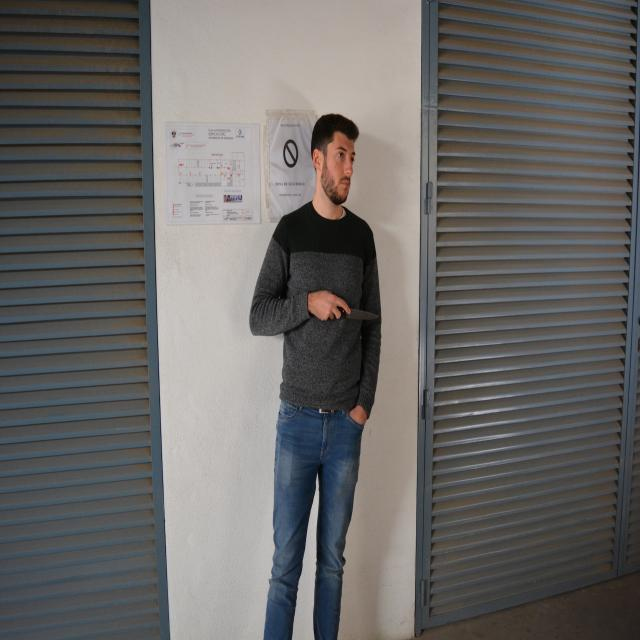knife: (343, 306, 385, 329)
